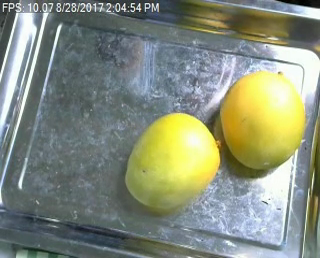Mango: (121, 111, 222, 215), (211, 67, 311, 171)
